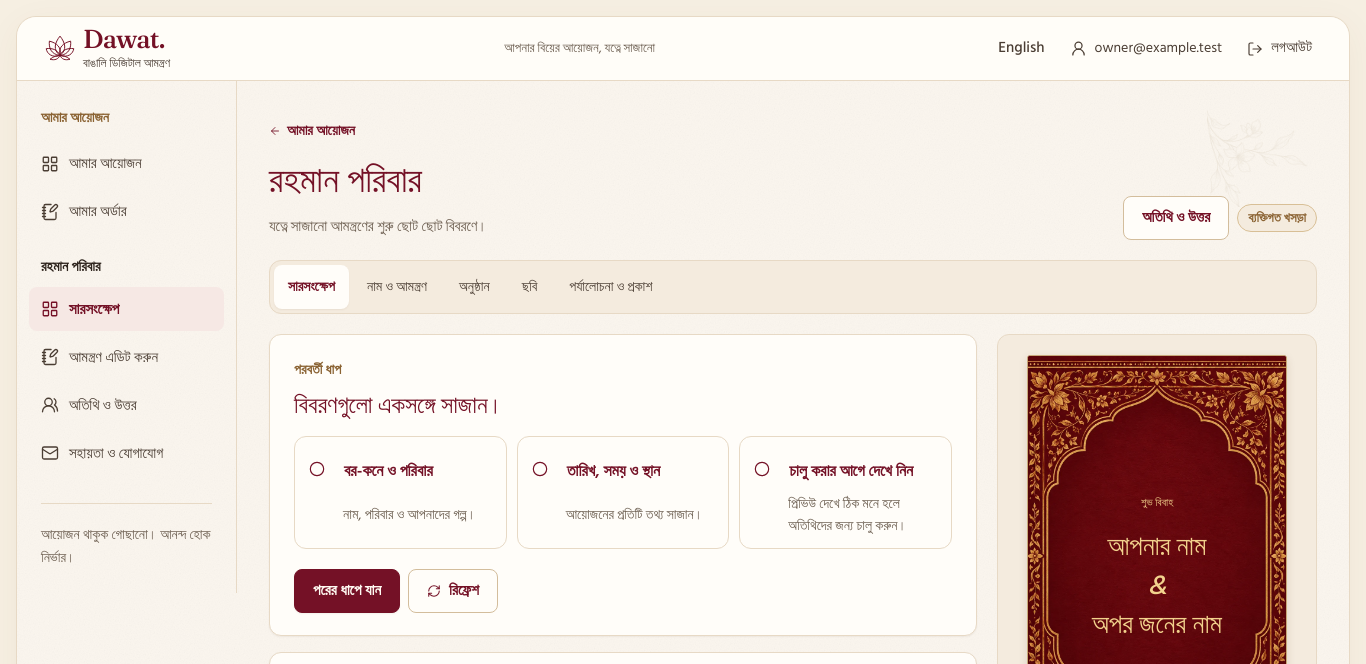
Test: does not allow removing a celebration with saved replies
The width and height of the screenshot is (1366, 664).
Click the button "অনুষ্ঠান" at (474, 287), box [445, 265, 504, 309]
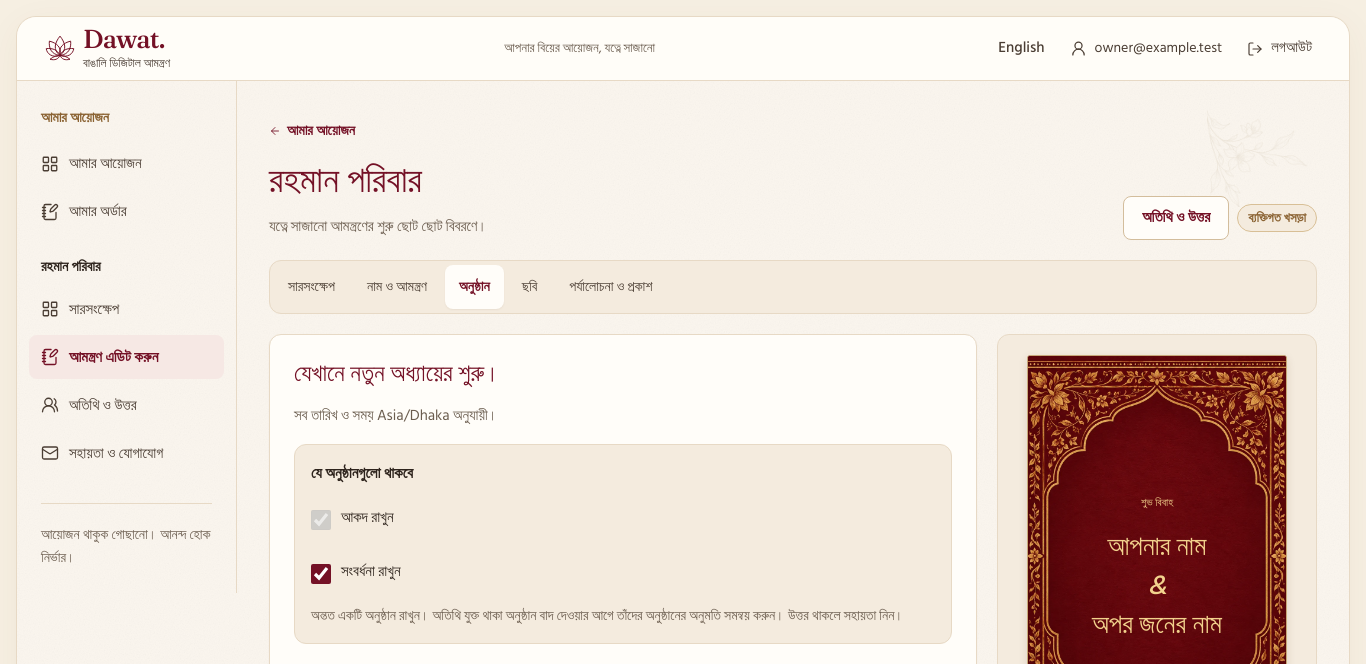
Now the checkbox labelled "আকদ রাখুন" is disabled, box [311, 510, 331, 530]
